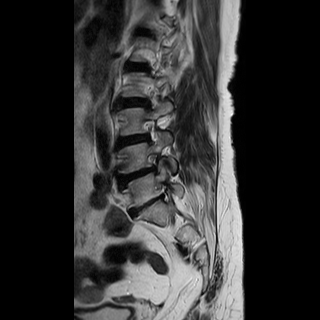RFS2: (142, 148, 165, 179)
